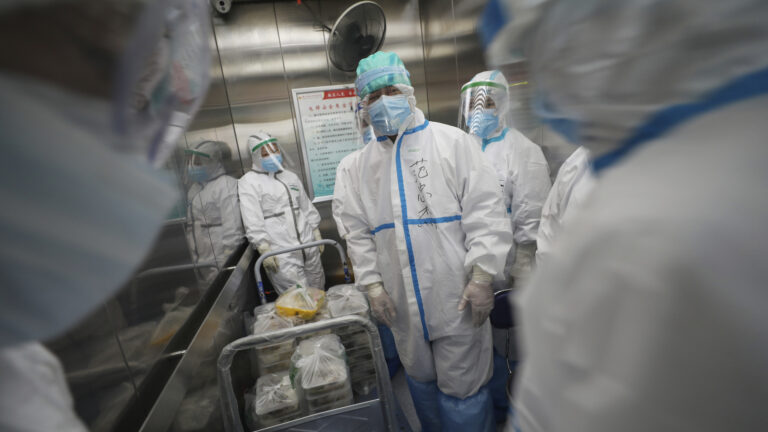Coverall: (339, 57, 494, 432), (235, 132, 329, 295)
Gloves: (453, 267, 493, 328), (361, 283, 399, 328)
with_mask: (364, 84, 412, 132), (463, 98, 505, 139), (258, 140, 284, 171)
